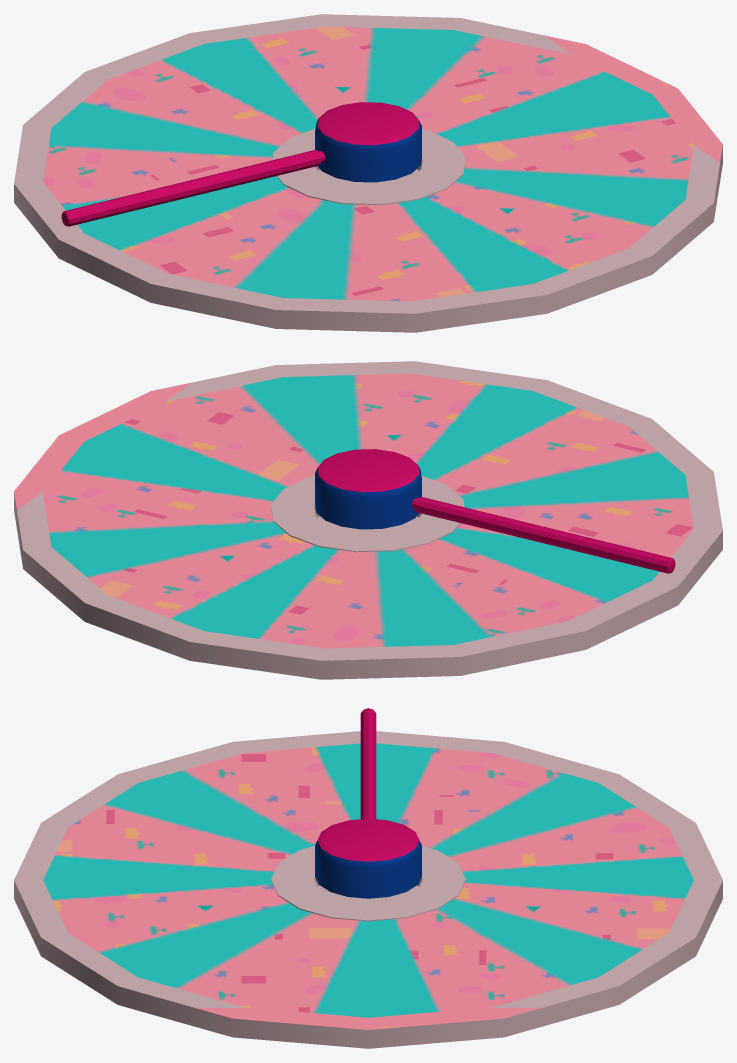
File: PLF0110057.fbx
3 views of the same model, one above another, from view 1: azimuth 30°, elevation 25°; view 2: azimuth 150°, elevation 25°; view 3: azimuth 270°, elevation 25° (orthographic).
Parts seen in each view (by area): view 1: smPLF0110057; view 2: smPLF0110057; view 3: smPLF0110057.
Boxes of the visible parts, x1,y1,x2,y2 form: smPLF0110057: (14, 14, 722, 332); smPLF0110057: (14, 361, 722, 679); smPLF0110057: (14, 708, 722, 1048).
Bounding box in the file's own units: 549 × 52.16 × 549.
1 material, 1 textured.
